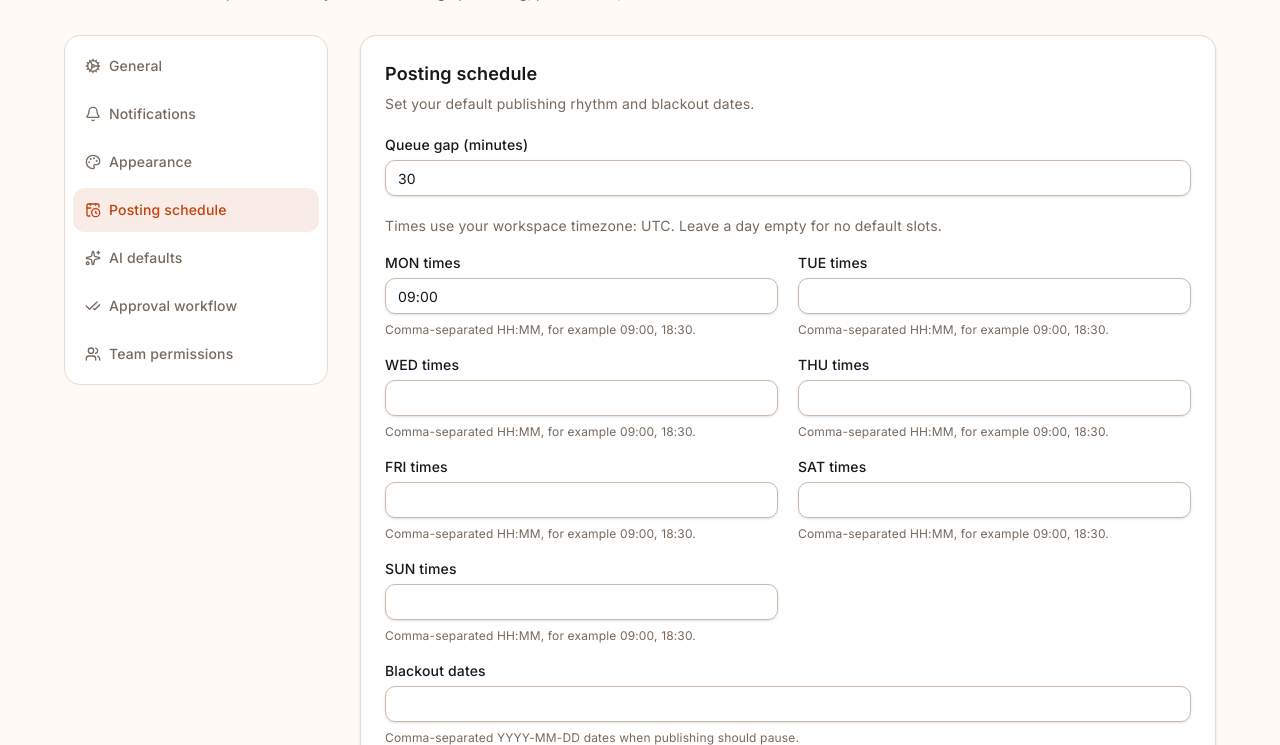
SettingsPage › rejects invalid MON times without saving
The width and height of the screenshot is (1280, 745).
Replace the text in the field labelled "MON times" with "25:00" at (582, 296), box x1=385 y1=278 x2=778 y2=314
(page scrolled)
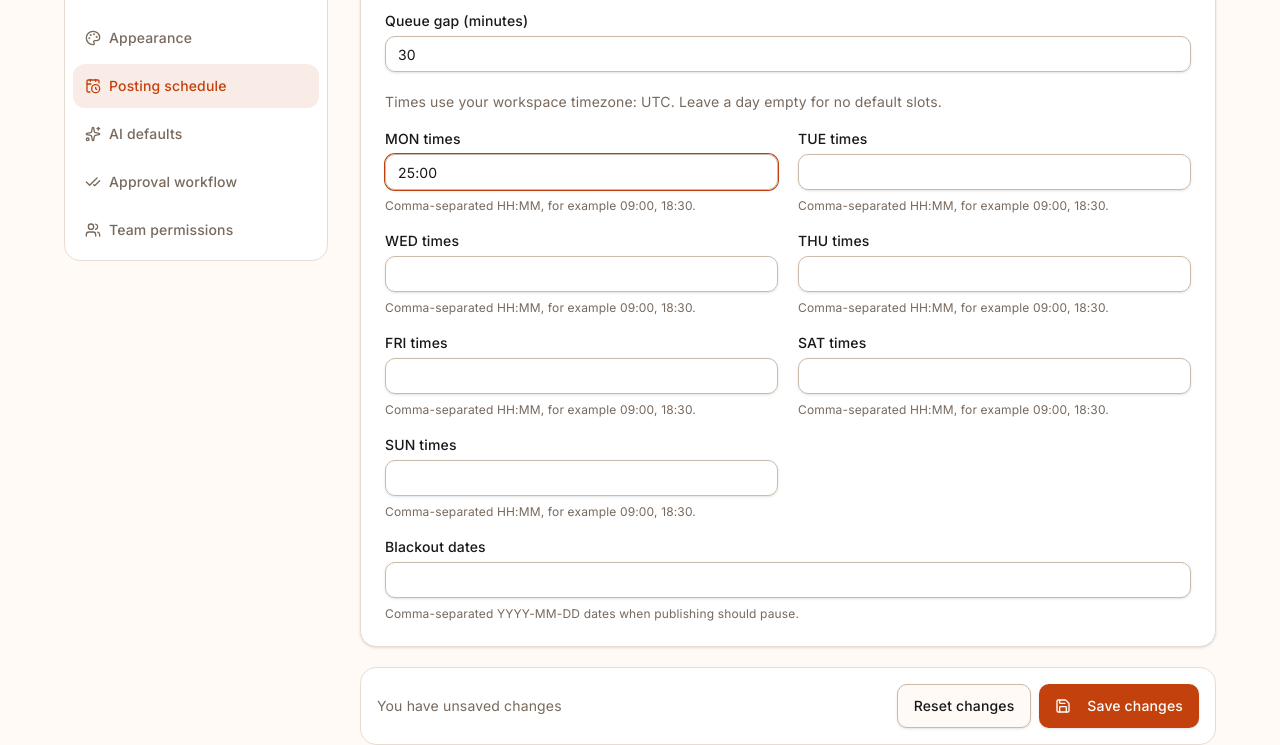
Click the button "Save changes".
click(1119, 706)  # box x1=1039 y1=684 x2=1199 y2=728
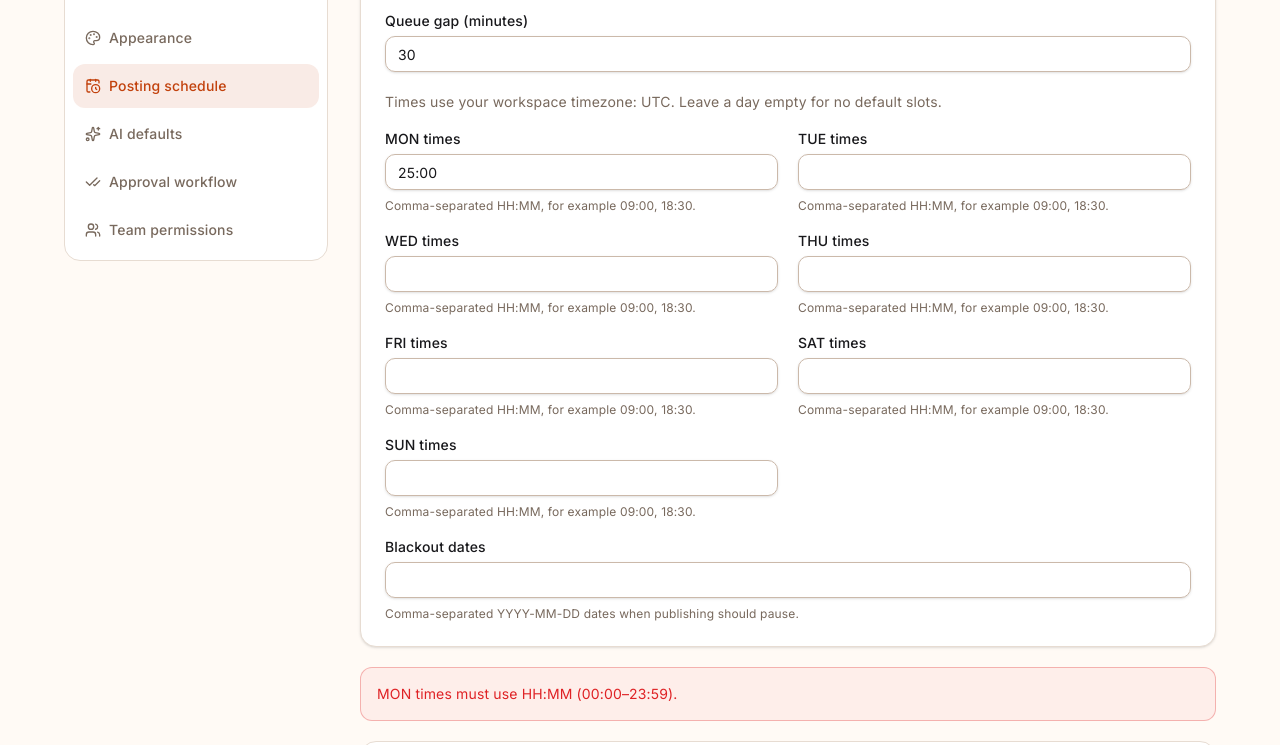
expect the message shows "HH:MM": met, box x1=377 y1=685 x2=678 y2=702
